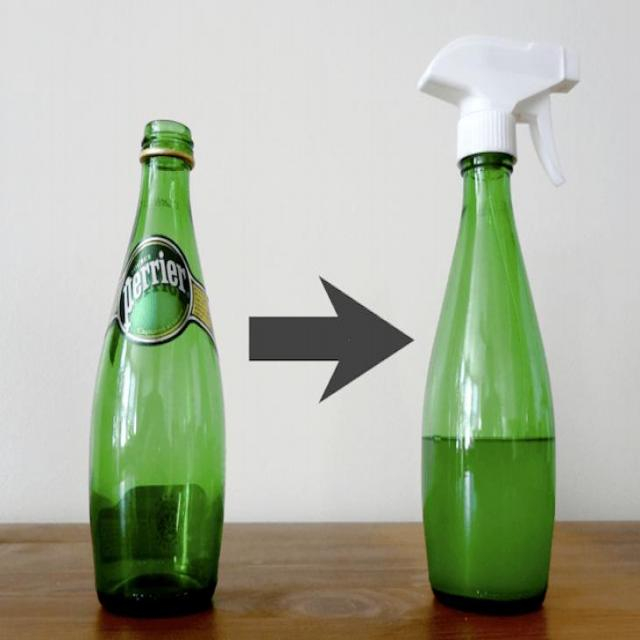non-organic waste: (82, 106, 224, 622)
